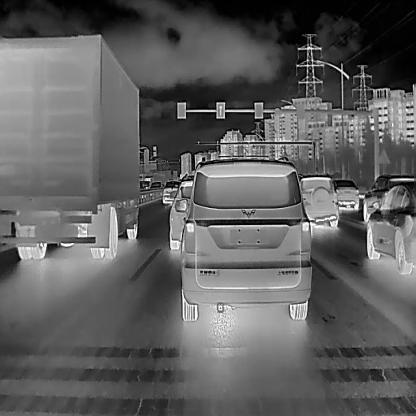car: (0, 33, 140, 259), (179, 156, 312, 320), (366, 182, 416, 276), (361, 172, 415, 224), (167, 176, 198, 249), (297, 175, 339, 228), (330, 176, 359, 209), (162, 180, 182, 205), (139, 179, 152, 191), (150, 181, 163, 192)
